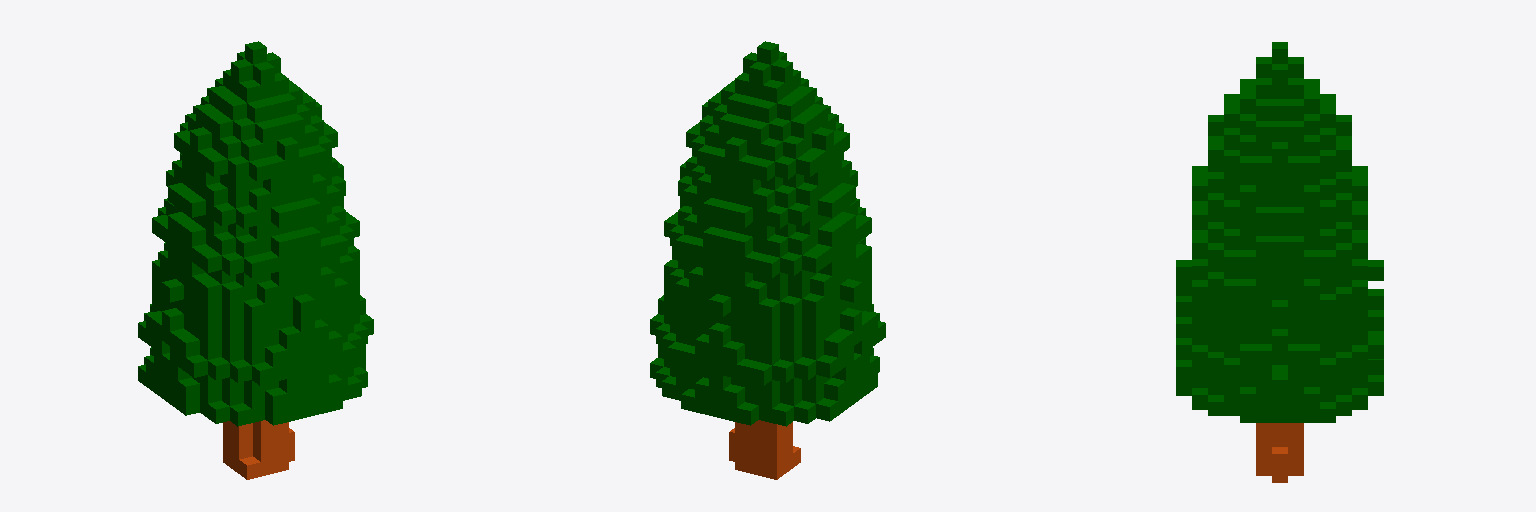
The model's file is tree.obj.
3 views of the same model, side by side, from view 1: azimuth 30°, elevation 25°; view 2: azimuth 150°, elevation 25°; view 3: azimuth 270°, elevation 25° (orthographic).
Visible parts, largest first — view 1: Tree3.000_Cylinder.000, Tree3.1_Cylinder.001; view 2: Tree3.000_Cylinder.000, Tree3.1_Cylinder.001; view 3: Tree3.000_Cylinder.000, Tree3.1_Cylinder.001.
Part boxes in pixels (x1,y1,x2,y2): Tree3.000_Cylinder.000: (138,41,373,426); Tree3.1_Cylinder.001: (223,420,294,479); Tree3.000_Cylinder.000: (650,41,885,426); Tree3.1_Cylinder.001: (729,420,800,479); Tree3.000_Cylinder.000: (1176,42,1383,422); Tree3.1_Cylinder.001: (1256,423,1303,482).
Size of the model in its own units: 2.98 by 6.65 by 2.98.